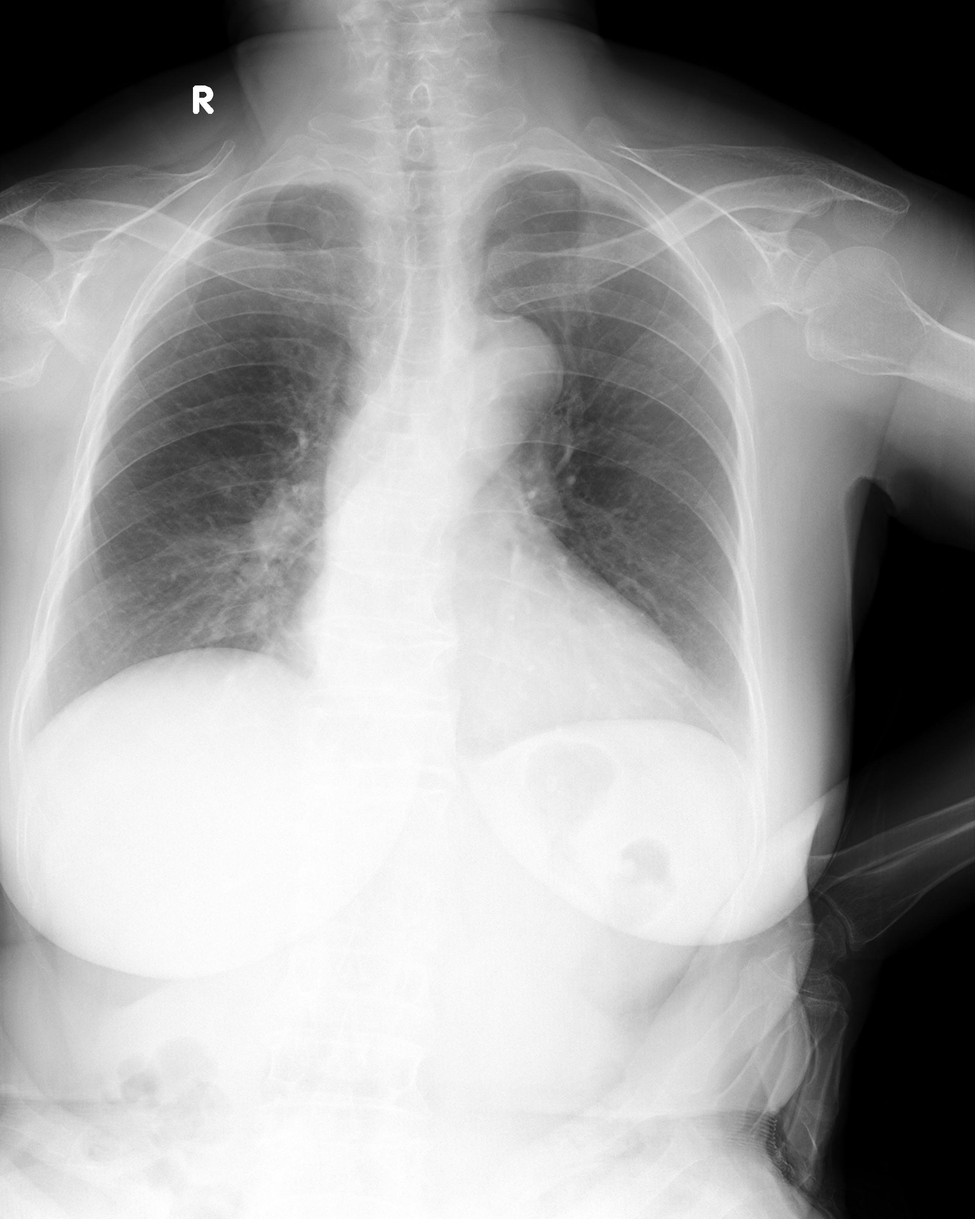Aortic enlargement: (433, 320, 565, 484)
Cardiomegaly: (289, 583, 697, 720)
